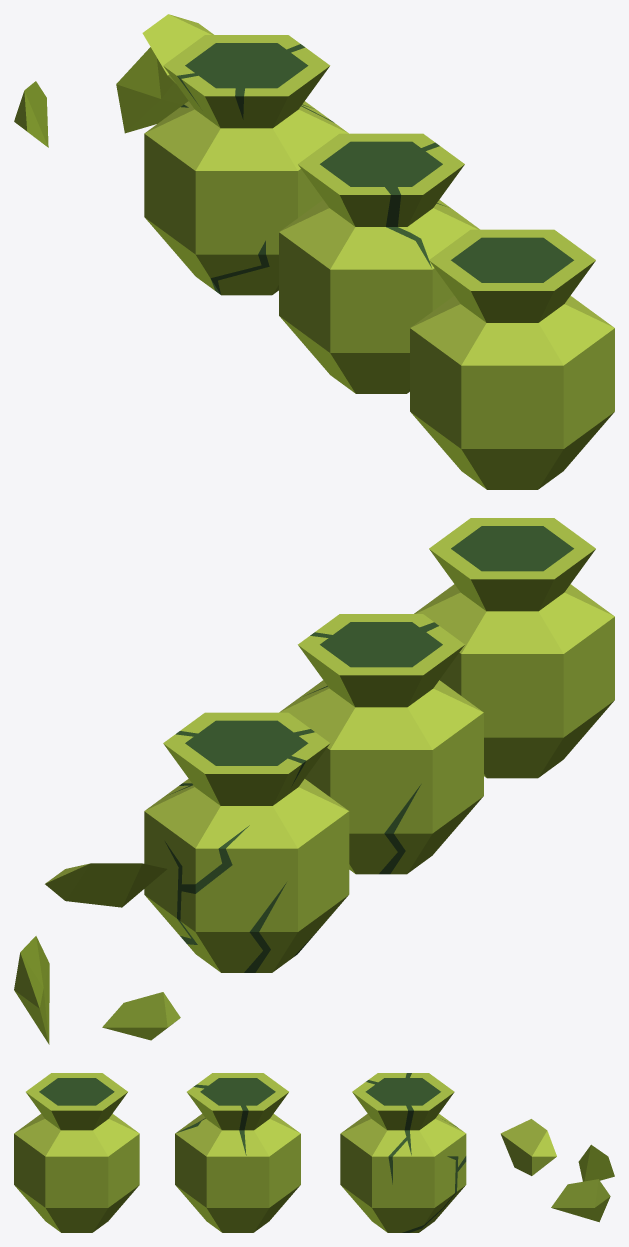
File: pot.fbx
3 views of the same model, one above another, from view 1: azimuth 30°, elevation 25°; view 2: azimuth 150°, elevation 25°; view 3: azimuth 270°, elevation 25° (orthographic). The views are drawn at different scales.
Visible parts, largest first — view 1: Mesh_Pot01, Mesh_Pot01_Damaged02, Mesh_Pot01_Damaged01, Mesh_Pot01_DamagedPart03, Mesh_Pot01_DamagedPart02, Mesh_Pot01_DamagedPart01; view 2: Mesh_Pot01_Damaged02, Mesh_Pot01_Damaged01, Mesh_Pot01, Mesh_Pot01_DamagedPart02, Mesh_Pot01_DamagedPart03, Mesh_Pot01_DamagedPart01; view 3: Mesh_Pot01_Damaged02, Mesh_Pot01_Damaged01, Mesh_Pot01, Mesh_Pot01_DamagedPart02, Mesh_Pot01_DamagedPart03, Mesh_Pot01_DamagedPart01.
Part boxes in pixels (box(x1,y1,x2,y2)): Mesh_Pot01: box(410, 229, 614, 489); Mesh_Pot01_Damaged02: box(144, 35, 348, 295); Mesh_Pot01_Damaged01: box(279, 133, 479, 393); Mesh_Pot01_DamagedPart03: box(116, 47, 188, 133); Mesh_Pot01_DamagedPart02: box(142, 14, 213, 83); Mesh_Pot01_DamagedPart01: box(14, 81, 48, 147); Mesh_Pot01_Damaged02: box(144, 712, 349, 972); Mesh_Pot01_Damaged01: box(279, 614, 483, 874); Mesh_Pot01: box(414, 518, 614, 778); Mesh_Pot01_DamagedPart02: box(45, 863, 167, 907); Mesh_Pot01_DamagedPart03: box(14, 936, 49, 1044); Mesh_Pot01_DamagedPart01: box(102, 992, 180, 1040); Mesh_Pot01_Damaged02: box(340, 1073, 466, 1232); Mesh_Pot01_Damaged01: box(175, 1073, 300, 1232); Mesh_Pot01: box(14, 1073, 139, 1232); Mesh_Pot01_DamagedPart02: box(500, 1119, 556, 1175); Mesh_Pot01_DamagedPart03: box(551, 1179, 610, 1222); Mesh_Pot01_DamagedPart01: box(578, 1144, 614, 1181).
Bounding box in the file's own units: 1.17 × 6.45 × 1.53.
